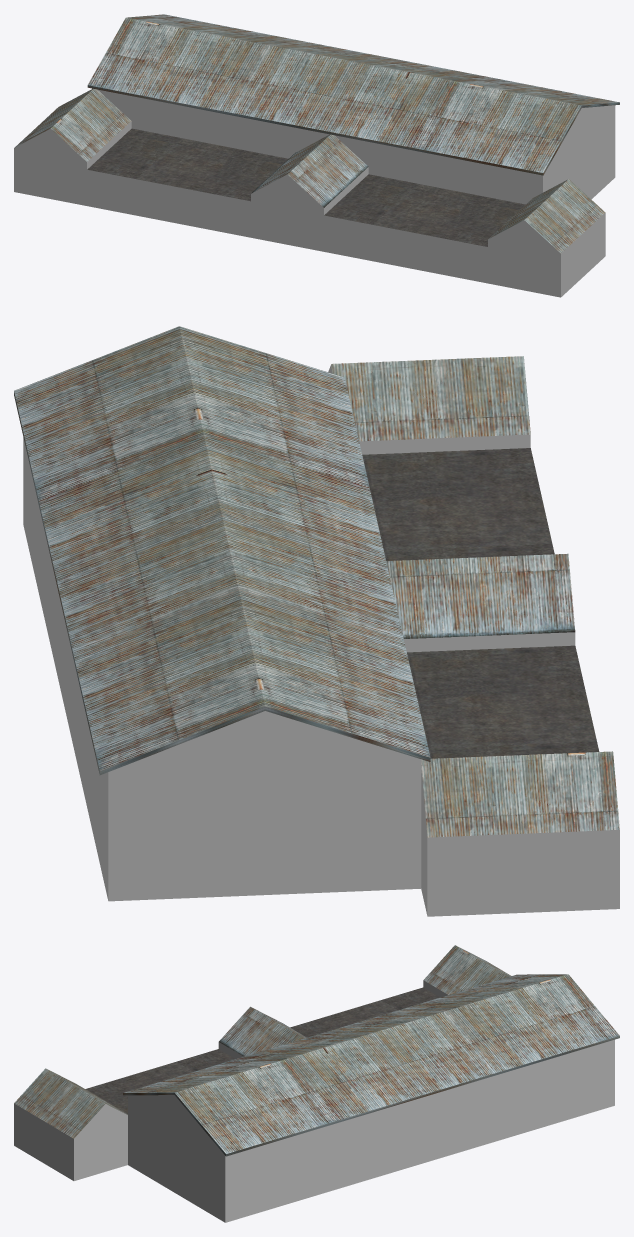
File: SM_GenericBuilding_03.fbx
The picture shows the model from 3 angles, top to bottom: view 1: azimuth 30°, elevation 25°; view 2: azimuth 150°, elevation 25°; view 3: azimuth 270°, elevation 25°; orthographic projection. The views are drawn at different scales.
Parts seen in each view (by area): view 1: SM_GenericBuilding_03; view 2: SM_GenericBuilding_03; view 3: SM_GenericBuilding_03.
Part boxes in pixels (left/top/right/bottom): SM_GenericBuilding_03: left=14, top=14, right=619, bottom=297; SM_GenericBuilding_03: left=14, top=326, right=619, bottom=916; SM_GenericBuilding_03: left=14, top=945, right=619, bottom=1222.
Bounding box in the file's own units: 1598 × 343 × 1845.
